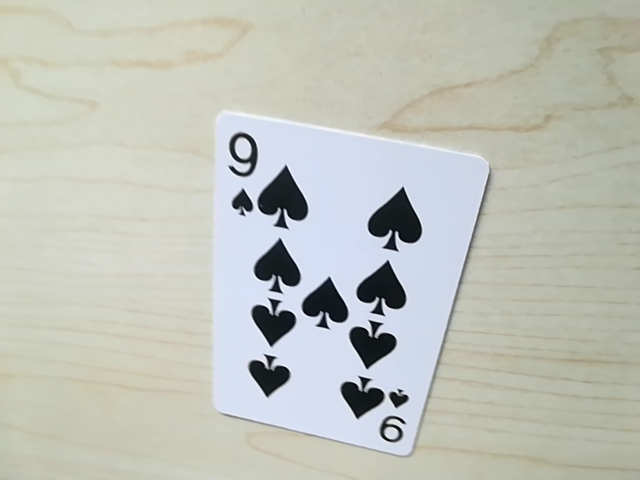ht 9: (213, 124, 276, 227), (369, 391, 415, 453)
